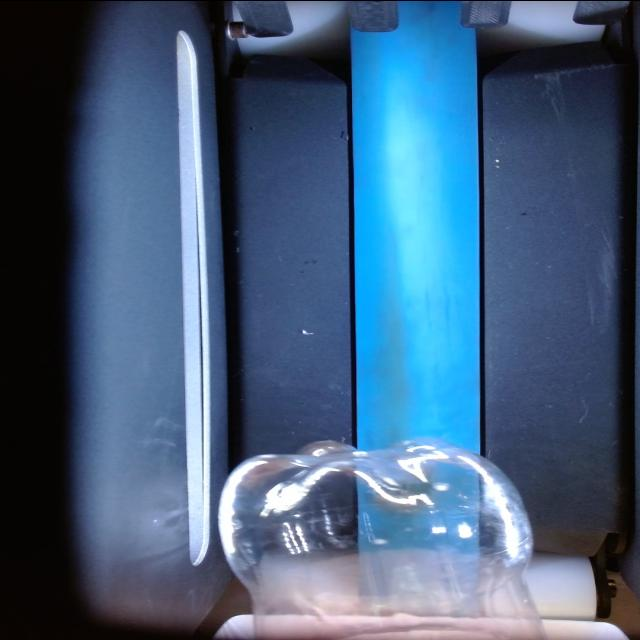bottom: (220, 439, 543, 640)
